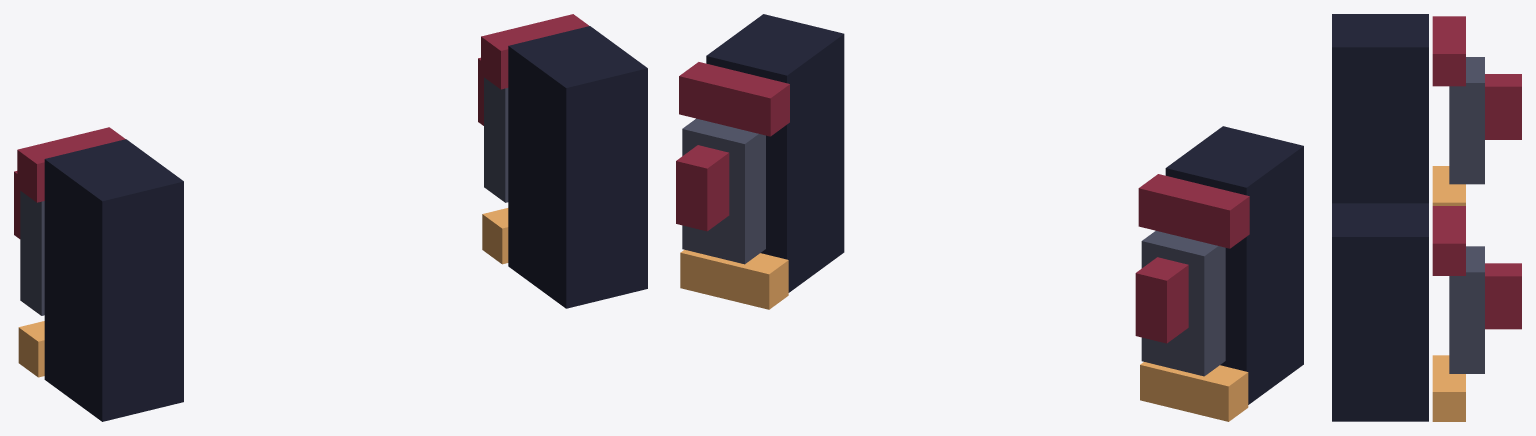
Rendered from KGB_CLASS_OniBracers_STATIC_DRAFT_v01.obj.
3 renders of one model, left to right at view 1: azimuth 30°, elevation 25°; view 2: azimuth 150°, elevation 25°; view 3: azimuth 270°, elevation 25°, orthographic. The views are drawn at different scales.
Visible parts, largest first — view 1: part_2, part_1, part_8, part_7, part_3, part_4, part_6, part_5; view 2: part_2, part_1, part_7, part_8, part_3, part_4, part_5, part_6, part_9, part_10; view 3: part_2, part_1, part_7, part_8, part_10, part_9, part_3, part_4, part_6, part_5.
Boxes of the visible parts, x1,y1,x2,y2 form: part_2: (508,26,647,308); part_1: (44,139,183,421); part_8: (484,77,508,202); part_7: (20,191,44,315); part_3: (17,127,125,202); part_4: (481,14,588,89); part_6: (482,208,508,264); part_5: (18,321,44,377); part_2: (706,14,844,292); part_1: (1165,126,1303,404); part_7: (1141,231,1225,376); part_8: (682,118,765,264); part_3: (1138,174,1249,248); part_4: (679,62,789,136); part_5: (1140,362,1248,421); part_6: (680,249,788,309); part_9: (1135,257,1188,343); part_10: (676,145,729,231); part_2: (1332,203,1428,421); part_1: (1332,14,1428,203); part_7: (1449,57,1484,184); part_8: (1449,246,1484,373); part_10: (1485,263,1521,329); part_9: (1485,74,1521,139); part_3: (1432,16,1465,86); part_4: (1432,206,1465,275); part_6: (1432,355,1465,421); part_5: (1432,166,1465,205).
Size of the model in its own units: 2.11 by 0.8 by 0.745.
